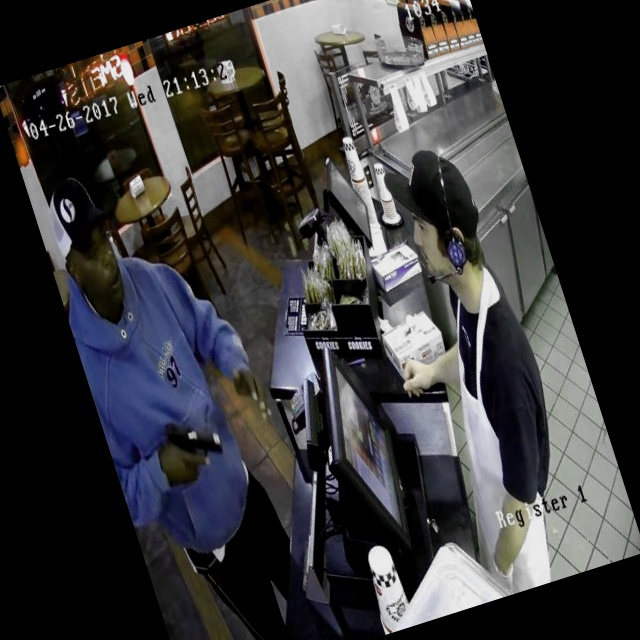gun: (140, 392, 242, 497)
